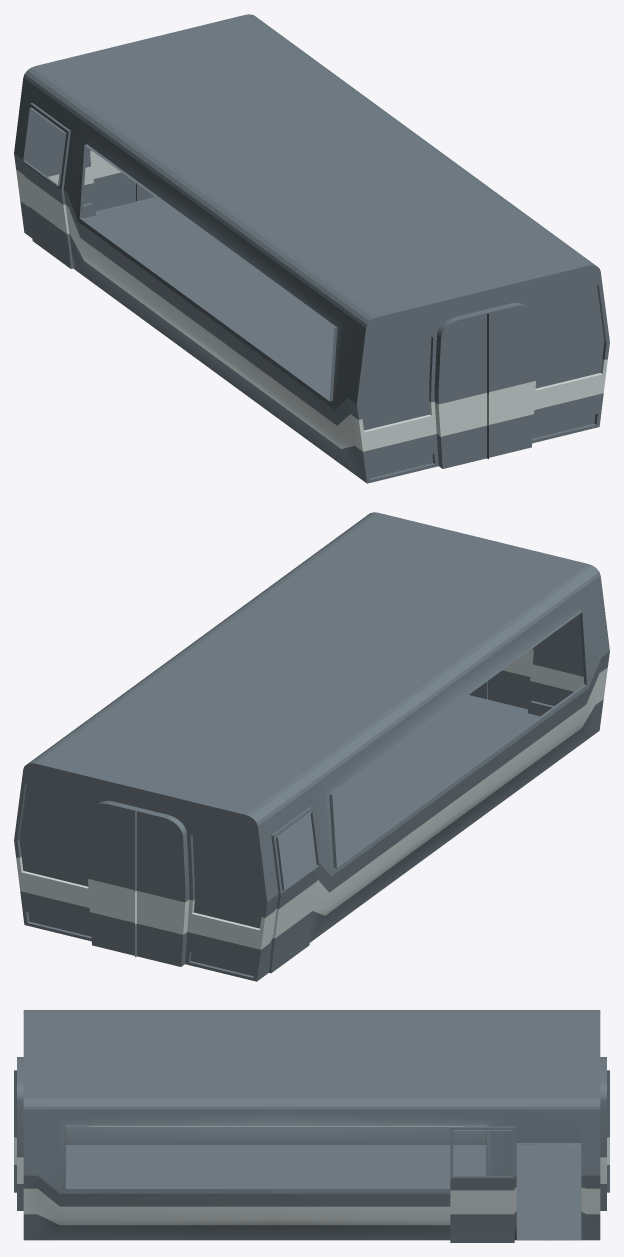
The model's file is open door wagon 1.fbx.
The picture shows the model from 3 angles, top to bottom: view 1: azimuth 30°, elevation 25°; view 2: azimuth 150°, elevation 25°; view 3: azimuth 270°, elevation 25°; orthographic projection. The views are drawn at different scales.
Parts seen in each view (by area): view 1: Cube.001; view 2: Cube.001; view 3: Cube.001.
Part boxes in pixels (x1,y1,x2,y2): Cube.001: (14, 14, 609, 483); Cube.001: (14, 512, 609, 981); Cube.001: (14, 1010, 609, 1242).
Bounding box in the file's own units: 630 × 371 × 1452.
